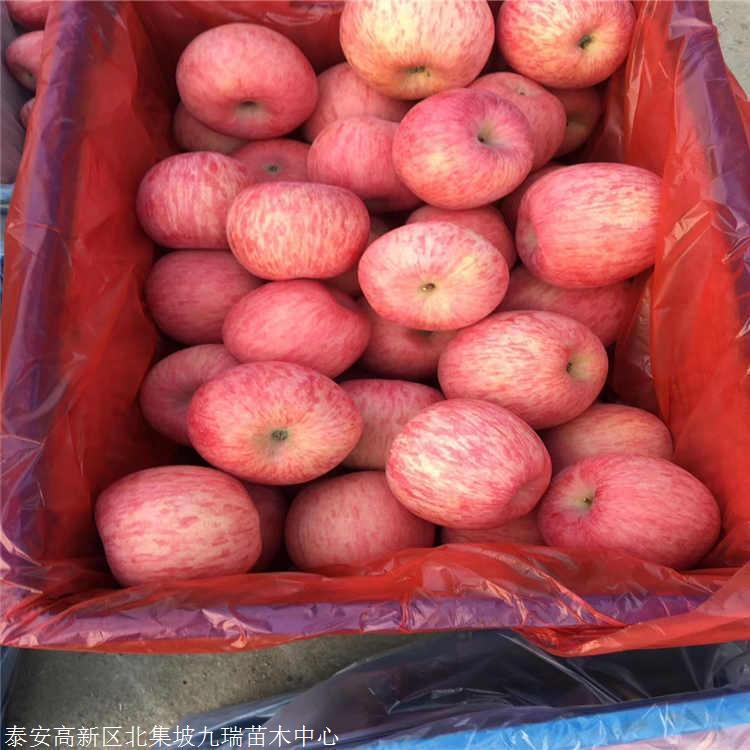apple: (186, 359, 361, 484), (384, 399, 554, 527), (537, 454, 723, 570), (89, 464, 266, 584), (439, 313, 608, 427), (514, 163, 663, 285), (175, 24, 317, 148), (394, 88, 537, 210), (354, 223, 510, 327), (335, 1, 496, 95), (283, 472, 433, 572), (219, 277, 369, 377), (226, 179, 368, 280), (498, 1, 637, 89), (310, 115, 423, 219), (144, 247, 265, 344), (133, 154, 250, 250), (138, 341, 238, 442)
